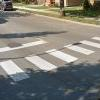Crosswalk: (3, 41, 95, 85)
